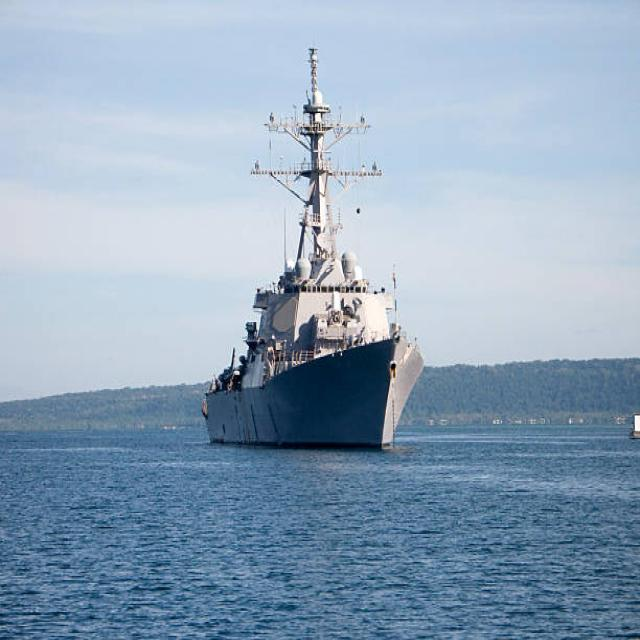Military: (201, 47, 424, 452)
